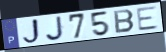5: (90, 9, 112, 37)
7: (67, 12, 87, 41)
B: (112, 8, 136, 34)
E: (135, 5, 161, 32)
J: (21, 18, 43, 45), (45, 15, 67, 42)
